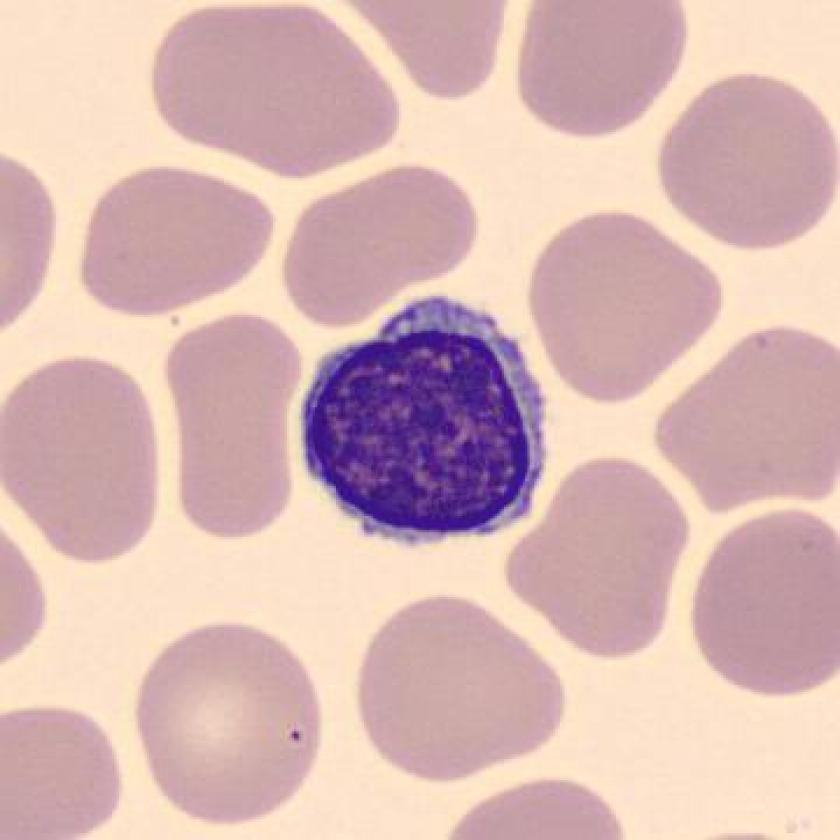lymphocyte: (293, 283, 561, 559)
